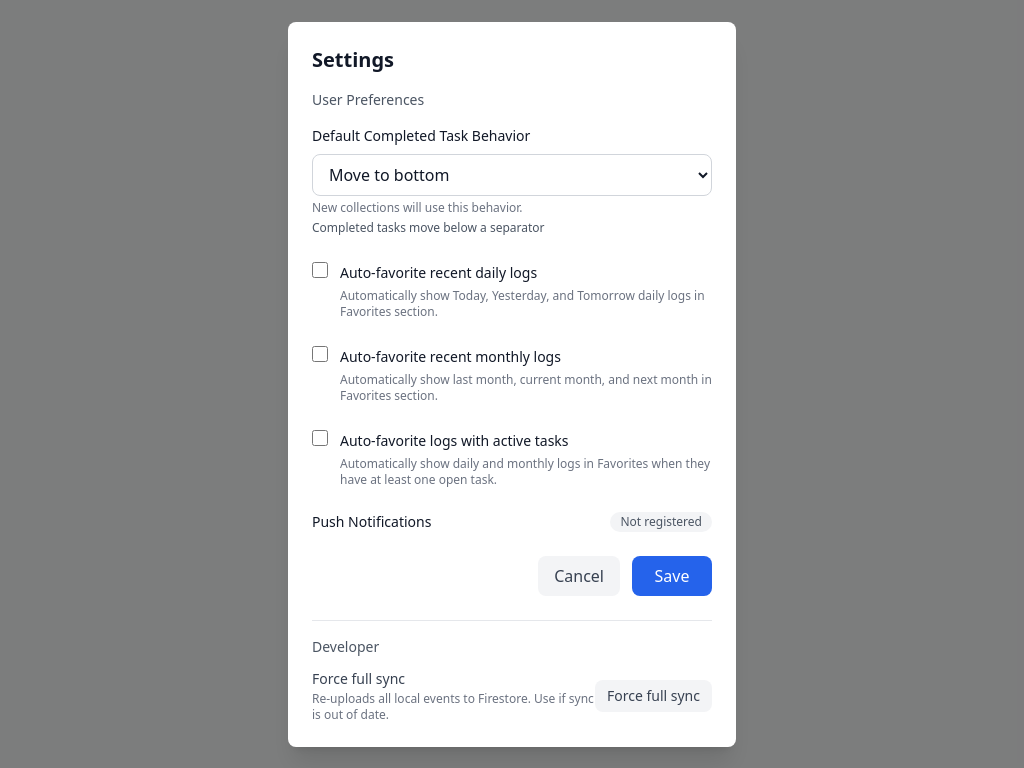
Scenario: SettingsModal › should show loading state while saving
This screenshot has width=1024, height=768.
Note: Start save
Click the button "Save". click: [672, 576]
box: x1=632 y1=556 x2=712 y2=596
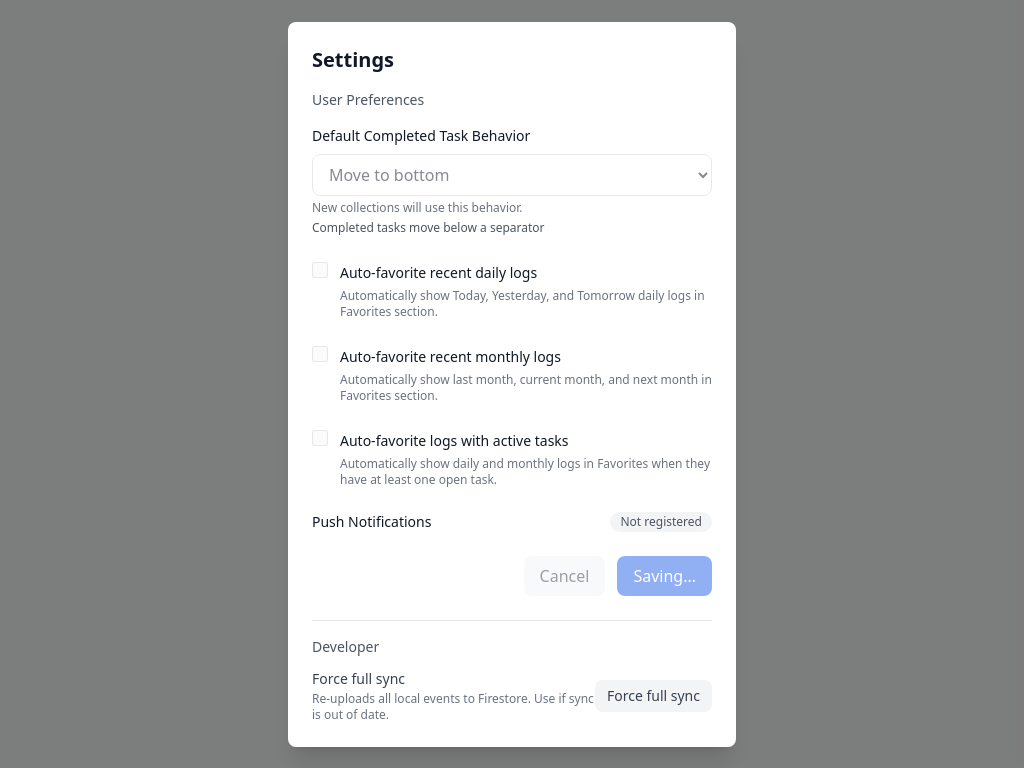
Expected: the button "Saving..." is disabled, x1=617 y1=556 x2=712 y2=596
Expected: the button "Cancel" is disabled, x1=524 y1=556 x2=605 y2=596
